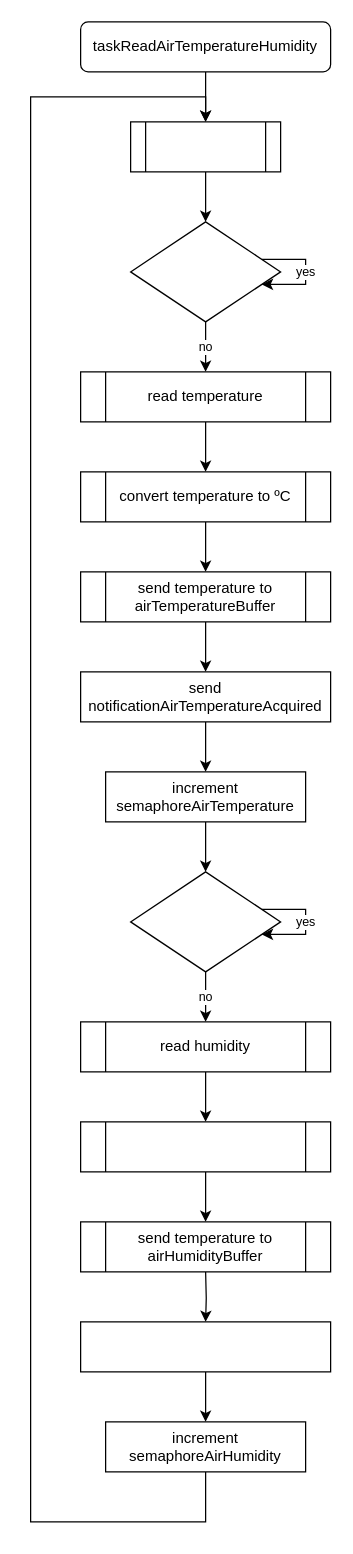
Some shapes in this 353 by 1554 pixel diagram are drawn without their labels. Each missing label, with the centre of its shape:
"convert humidity" belongs at [205,1146].
"delay 1min" belongs at [205,146].
"semaphoreAirHumidity locked?" belongs at [205,921].
"semaphoreAirTemperature locked?" belongs at [205,271].
"send notificationAirHumidityAcquired" belongs at [205,1346].
